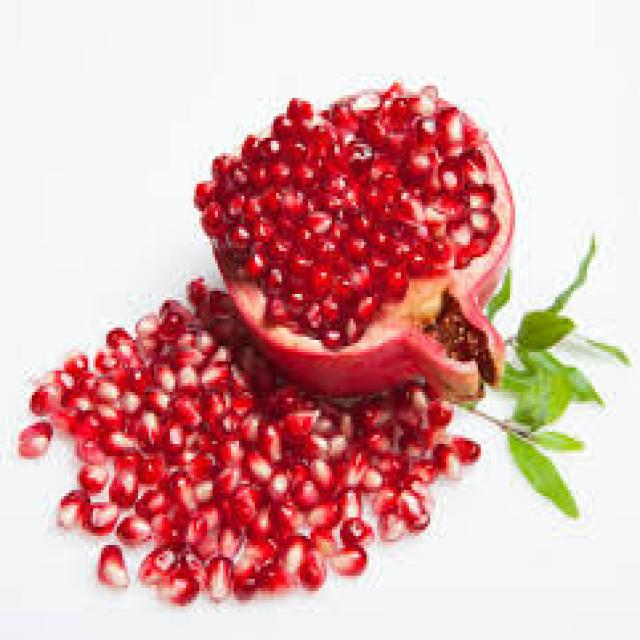organic waste: (191, 77, 513, 395), (504, 428, 574, 518), (51, 490, 98, 533), (162, 466, 194, 512), (13, 414, 48, 456), (326, 542, 364, 579), (138, 545, 173, 585), (396, 484, 428, 527), (308, 414, 345, 450), (521, 429, 584, 450), (274, 532, 306, 572), (96, 542, 124, 585), (82, 499, 120, 530), (26, 377, 58, 413), (56, 410, 101, 435), (207, 554, 231, 600), (175, 511, 207, 545), (175, 386, 202, 426), (297, 548, 324, 588), (117, 515, 149, 548), (337, 515, 372, 545), (109, 466, 138, 502), (428, 386, 452, 429), (377, 502, 404, 539), (156, 294, 188, 325), (96, 401, 128, 432), (170, 545, 202, 576), (258, 386, 298, 410), (282, 459, 306, 499), (308, 456, 332, 496), (255, 423, 281, 459), (268, 502, 298, 533), (244, 533, 274, 563), (117, 364, 149, 392), (306, 499, 338, 527), (223, 380, 250, 413), (148, 365, 172, 401), (212, 518, 236, 554), (282, 407, 316, 432), (379, 404, 404, 438), (353, 395, 380, 426), (335, 459, 361, 490), (401, 380, 425, 413), (141, 334, 167, 364), (77, 438, 109, 462), (88, 377, 116, 404), (244, 511, 271, 539), (167, 573, 194, 600), (186, 444, 212, 472), (133, 453, 162, 478), (406, 423, 436, 447), (433, 441, 454, 475), (189, 475, 215, 502), (358, 429, 391, 450), (362, 459, 382, 493), (212, 315, 239, 340), (132, 407, 156, 435), (334, 487, 356, 517), (212, 466, 234, 496), (372, 487, 396, 514), (138, 490, 165, 514), (77, 465, 106, 487), (263, 472, 284, 502), (234, 481, 255, 511), (205, 288, 231, 312), (197, 389, 220, 416), (215, 438, 244, 459), (138, 312, 162, 337), (409, 453, 433, 478), (194, 322, 212, 355), (252, 364, 271, 395), (167, 340, 194, 361), (61, 392, 88, 413), (159, 416, 178, 444), (149, 514, 170, 539), (112, 447, 138, 466), (188, 273, 204, 303), (61, 352, 82, 374), (98, 346, 120, 367), (398, 468, 422, 487), (226, 361, 244, 386), (242, 346, 258, 374), (234, 567, 252, 591), (452, 435, 472, 456), (212, 496, 228, 521), (390, 429, 409, 450), (372, 447, 393, 466), (106, 328, 128, 346), (120, 352, 144, 364), (46, 368, 66, 377)
